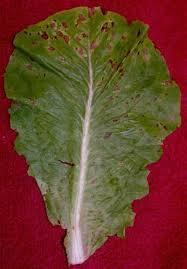Bok-Choy-Diseased: (4, 6, 178, 269)
